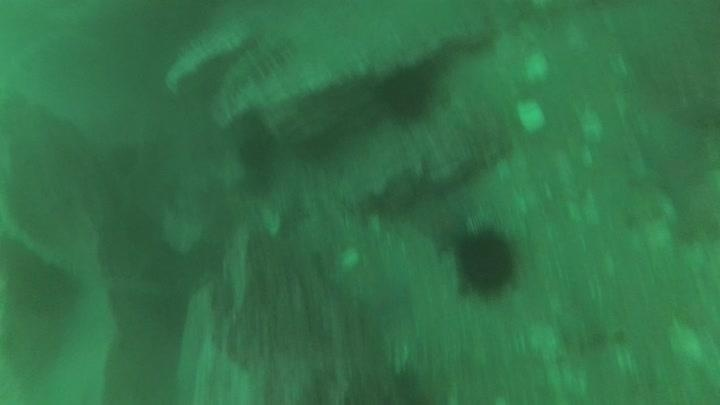echinus: (448, 221, 523, 300), (376, 62, 438, 122)
holothurian: (212, 30, 298, 112)
starfish: (408, 194, 473, 255)
